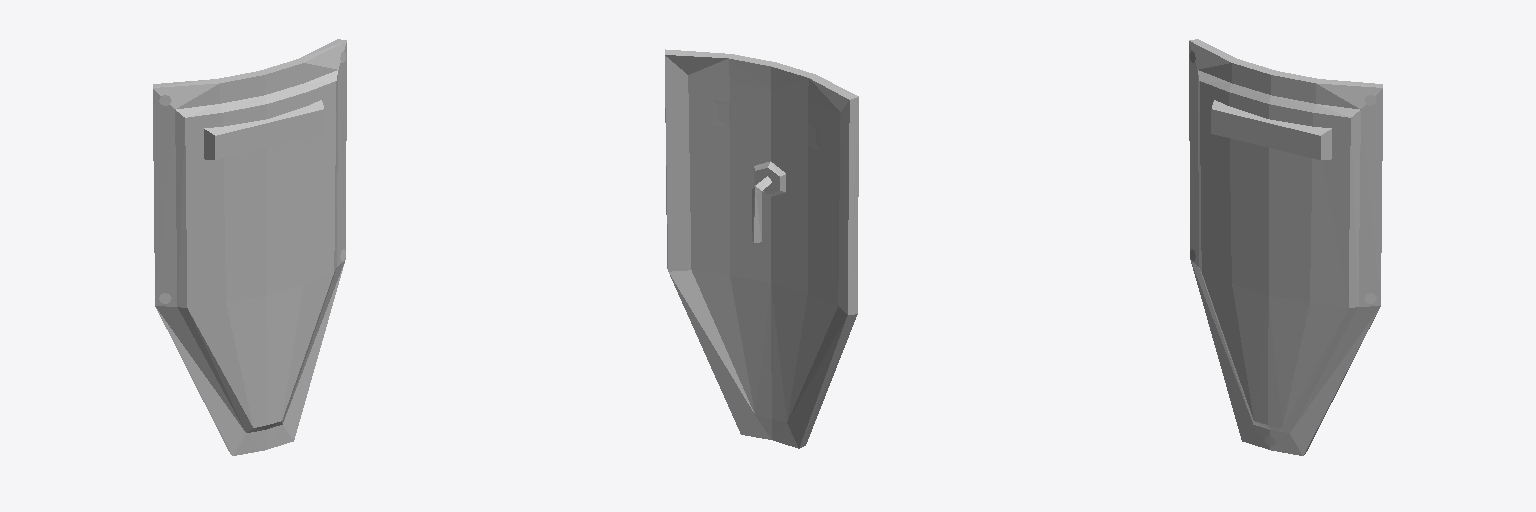
Rendered from Sniper Joe Shield.obj.
The picture shows the model from 3 angles: view 1: azimuth 30°, elevation 25°; view 2: azimuth 150°, elevation 25°; view 3: azimuth 330°, elevation 25°; orthographic projection.
Visible parts, largest first — view 1: ShieldMesh_m; view 2: ShieldMesh_m; view 3: ShieldMesh_m.
Part boxes in pixels (x1,y1,x2,y2): ShieldMesh_m: (153, 39, 346, 455); ShieldMesh_m: (665, 49, 858, 448); ShieldMesh_m: (1189, 39, 1382, 455).
Bounding box in the file's own units: 0.6086 × 1.12 × 0.1524.